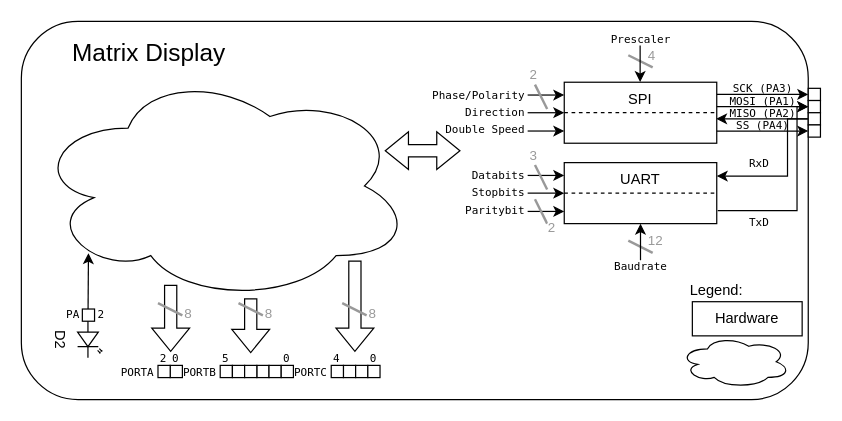
Some shapes in this 842 by 421 pixel diagram are drawn without their labels. Here are the shapes that lost their labels. From the top down, the centre of each, then its label:
At point (222, 185): "Internal Firmware MAD_FW_?_?".
At point (734, 361): "Software".
